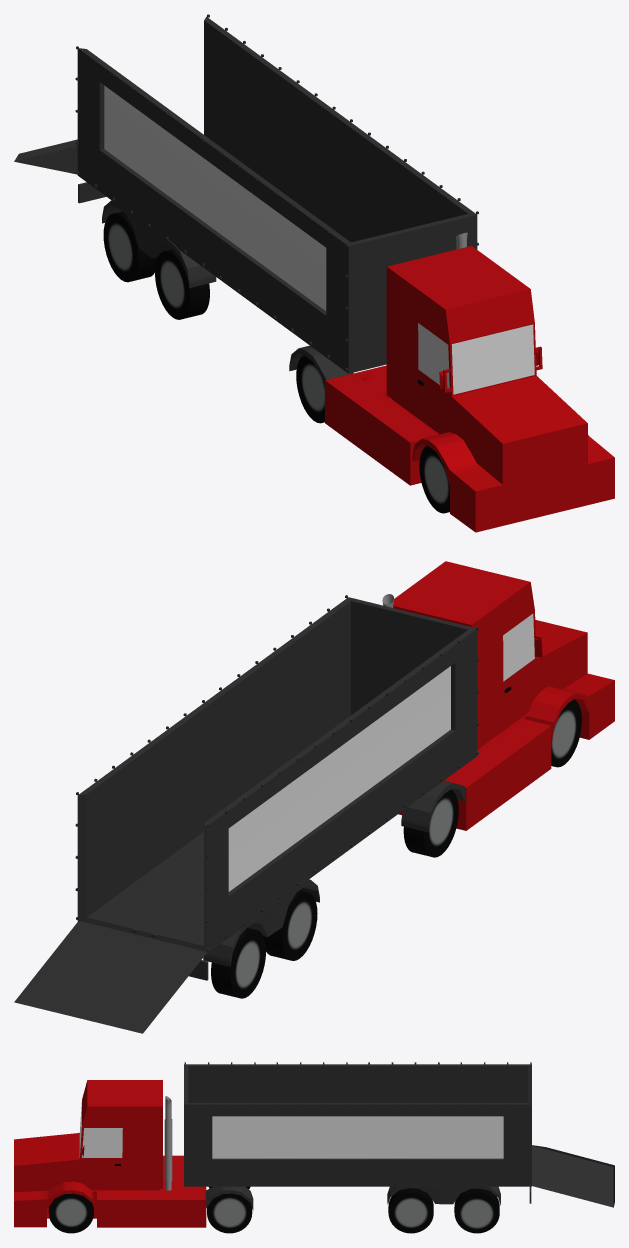
File: CamionDeciertoModel001.fbx
3 renders of one model, top to bottom at view 1: azimuth 30°, elevation 25°; view 2: azimuth 150°, elevation 25°; view 3: azimuth 270°, elevation 25°, orthographic. The views are drawn at different scales.
Visible parts, largest first — view 1: Trailer, Truck, Rear1.R, Rear2.R, Front1.R, Front2.R; view 2: Trailer, Truck, Rear2.R, Rear1.R, Front2.R, Front1.R; view 3: Trailer, Truck, Rear1.L, Rear2.L, Front1.L, Front2.L.
Boxes of the visible parts, x1,y1,x2,y2 form: Trailer: (14,16,477,389); Truck: (75,14,614,532); Rear1.R: (155,249,209,319); Rear2.R: (103,211,157,282); Front1.R: (419,446,449,513); Front2.R: (296,355,324,423); Trailer: (14,597,477,1033); Truck: (75,561,614,951); Rear2.R: (211,928,265,998); Rear1.R: (263,890,317,960); Front2.R: (403,789,458,857); Front1.R: (551,699,581,767); Trailer: (184,1064,614,1210); Truck: (14,1062,531,1227); Rear1.L: (388,1188,433,1233); Rear2.L: (454,1188,499,1233); Front1.L: (48,1193,93,1233); Front2.L: (207,1193,252,1233).
Size of the model in its own units: 462 by 633 by 2648.
Materials: 5 (1 with a texture image).
